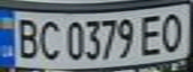0: (63, 17, 84, 61)
3: (81, 17, 103, 61)
7: (100, 16, 121, 60)
9: (115, 15, 139, 60)
B: (9, 15, 42, 61)
C: (36, 17, 63, 61)
E: (136, 11, 166, 56)
O: (157, 9, 190, 54)
